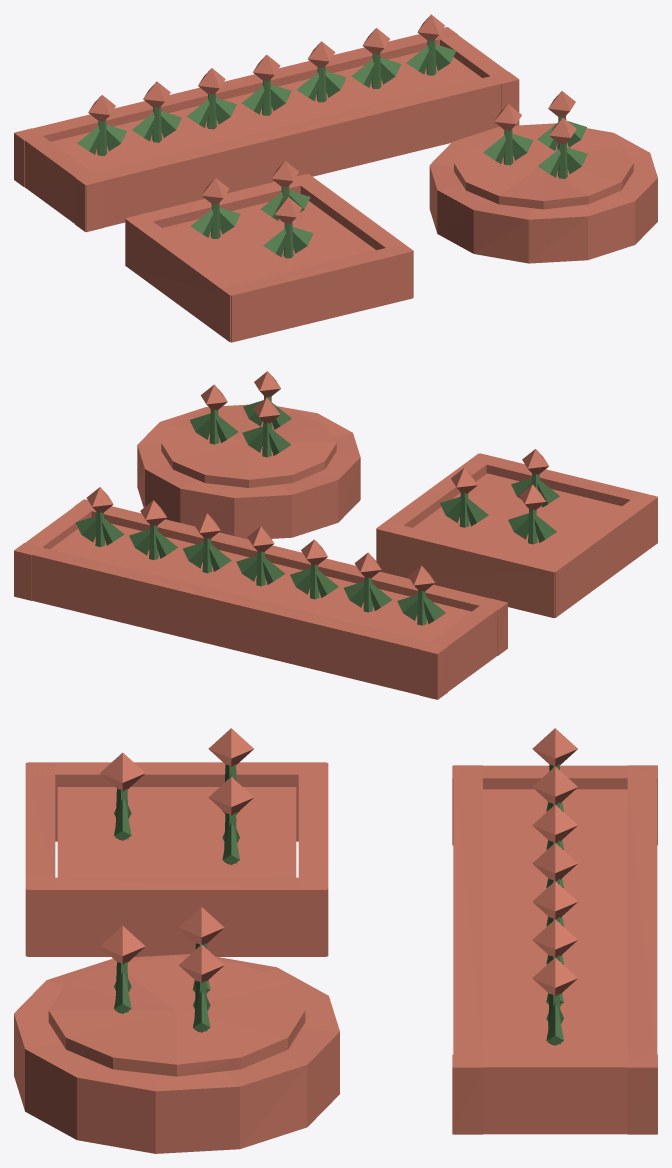
Rendered from flower-beds.source.glb.
The picture shows the model from 3 angles, top to bottom: view 1: azimuth 30°, elevation 25°; view 2: azimuth 150°, elevation 25°; view 3: azimuth 270°, elevation 25°; orthographic projection. The views are drawn at different scales.
Parts seen in each view (by area): view 1: flower-beds-long-bed-side--0.62-mesh, flower-beds-round-bed-stone-wall-mesh, flower-beds-long-bed-soil-mesh, flower-beds-square-bed-side-1.98-mesh, flower-beds-round-bed-soil-mesh, flower-beds-square-bed-soil-mesh, flower-beds-square-bed-end--2.13-mesh, flower-beds-long-bed-side--1.68-mesh, flower-beds-long-bed-end--2.08-mesh, flower-beds-square-bed-end--0.47-mesh, flower-beds-square-bed-side-0.32-mesh, flower-beds-long-bed-end-2.08-mesh; view 2: flower-beds-long-bed-side--1.68-mesh, flower-beds-round-bed-stone-wall-mesh, flower-beds-long-bed-soil-mesh, flower-beds-square-bed-side-0.32-mesh, flower-beds-round-bed-soil-mesh, flower-beds-square-bed-soil-mesh, flower-beds-square-bed-end--2.13-mesh, flower-beds-long-bed-side--0.62-mesh, flower-beds-long-bed-end--2.08-mesh, flower-beds-square-bed-side-1.98-mesh, flower-beds-long-bed-end-2.08-mesh, flower-beds-square-bed-end--0.47-mesh; view 3: flower-beds-long-bed-soil-mesh, flower-beds-round-bed-stone-wall-mesh, flower-beds-round-bed-soil-mesh, flower-beds-square-bed-end--0.47-mesh, flower-beds-square-bed-soil-mesh, flower-beds-long-bed-end-2.08-mesh, flower-beds-long-bed-side--1.68-mesh, flower-beds-long-bed-side--0.62-mesh, flower-beds-square-bed-end--2.13-mesh, flower-beds-square-bed-side-0.32-mesh, flower-beds-square-bed-side-1.98-mesh, flower-beds-long-bed-end--2.08-mesh (+13 smaller).
Part boxes in pixels (bbox=[...]): flower-beds-long-bed-side--0.62-mesh: bbox=[75, 72, 519, 231]; flower-beds-round-bed-stone-wall-mesh: bbox=[429, 123, 657, 263]; flower-beds-long-bed-soil-mesh: bbox=[51, 52, 481, 172]; flower-beds-square-bed-side-1.98-mesh: bbox=[221, 244, 413, 342]; flower-beds-round-bed-soil-mesh: bbox=[454, 125, 633, 209]; flower-beds-square-bed-soil-mesh: bbox=[162, 201, 375, 283]; flower-beds-square-bed-end--2.13-mesh: bbox=[125, 216, 237, 342]; flower-beds-long-bed-side--1.68-mesh: bbox=[14, 27, 457, 187]; flower-beds-long-bed-end--2.08-mesh: bbox=[14, 128, 103, 232]; flower-beds-square-bed-end--0.47-mesh: bbox=[294, 174, 413, 297]; flower-beds-square-bed-side-0.32-mesh: bbox=[125, 174, 317, 227]; flower-beds-long-bed-end-2.08-mesh: bbox=[440, 27, 518, 125]; flower-beds-long-bed-side--1.68-mesh: bbox=[14, 543, 448, 699]; flower-beds-round-bed-stone-wall-mesh: bbox=[137, 404, 360, 539]; flower-beds-long-bed-soil-mesh: bbox=[50, 523, 471, 641]; flower-beds-square-bed-side-0.32-mesh: bbox=[376, 522, 562, 617]; flower-beds-round-bed-soil-mesh: bbox=[161, 406, 336, 487]; flower-beds-square-bed-soil-mesh: bbox=[413, 473, 621, 560]; flower-beds-square-bed-end--2.13-mesh: bbox=[538, 493, 657, 617]; flower-beds-long-bed-side--0.62-mesh: bbox=[74, 499, 507, 655]; flower-beds-long-bed-end--2.08-mesh: bbox=[419, 598, 507, 699]; flower-beds-square-bed-side-1.98-mesh: bbox=[470, 453, 657, 505]; flower-beds-long-bed-end-2.08-mesh: bbox=[14, 499, 93, 600]; flower-beds-square-bed-end--0.47-mesh: bbox=[376, 453, 494, 561]; flower-beds-long-bed-soil-mesh: bbox=[483, 789, 627, 1054]; flower-beds-round-bed-stone-wall-mesh: bbox=[14, 954, 339, 1153]; flower-beds-round-bed-soil-mesh: bbox=[48, 956, 305, 1076]; flower-beds-square-bed-end--0.47-mesh: bbox=[27, 877, 326, 956]; flower-beds-square-bed-soil-mesh: bbox=[57, 787, 296, 877]; flower-beds-long-bed-end-2.08-mesh: bbox=[452, 1054, 657, 1134]; flower-beds-long-bed-side--1.68-mesh: bbox=[627, 765, 657, 1134]; flower-beds-long-bed-side--0.62-mesh: bbox=[453, 765, 482, 1134]; flower-beds-square-bed-end--2.13-mesh: bbox=[27, 762, 326, 841]; flower-beds-square-bed-side-0.32-mesh: bbox=[298, 763, 328, 956]; flower-beds-square-bed-side-1.98-mesh: bbox=[25, 763, 55, 956]; flower-beds-long-bed-end--2.08-mesh: bbox=[452, 765, 657, 845].
Size of the model in its own units: 4.66 by 1.07 by 3.92.
